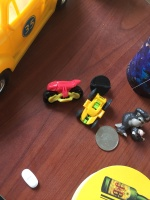Centik Buskopan: (20, 167, 39, 189)
